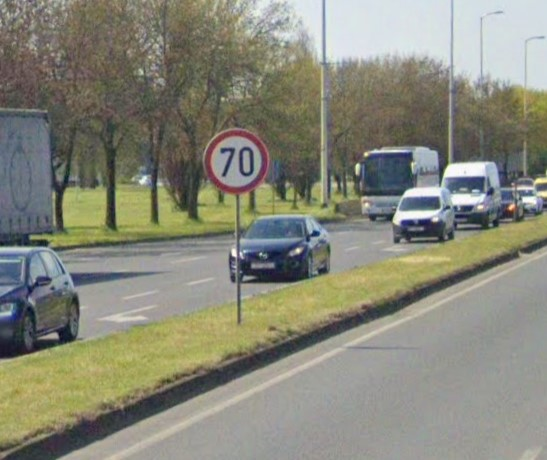Ograničenje brzine 70: (202, 128, 269, 195)
